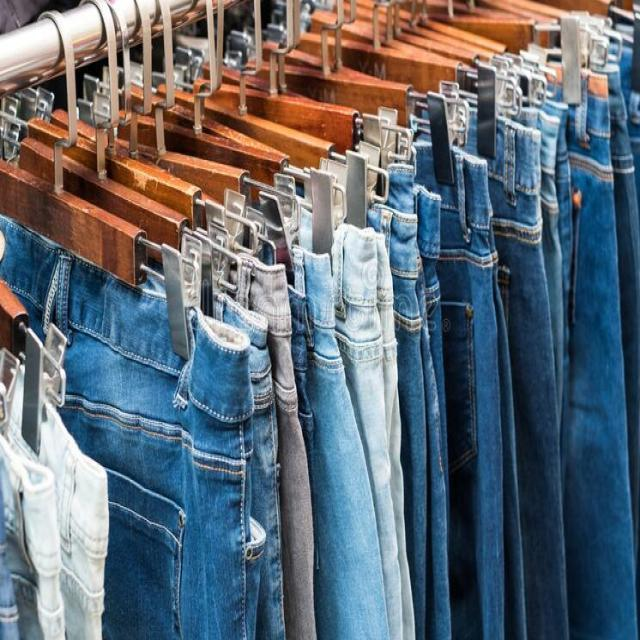clothes: (297, 88, 640, 616)
